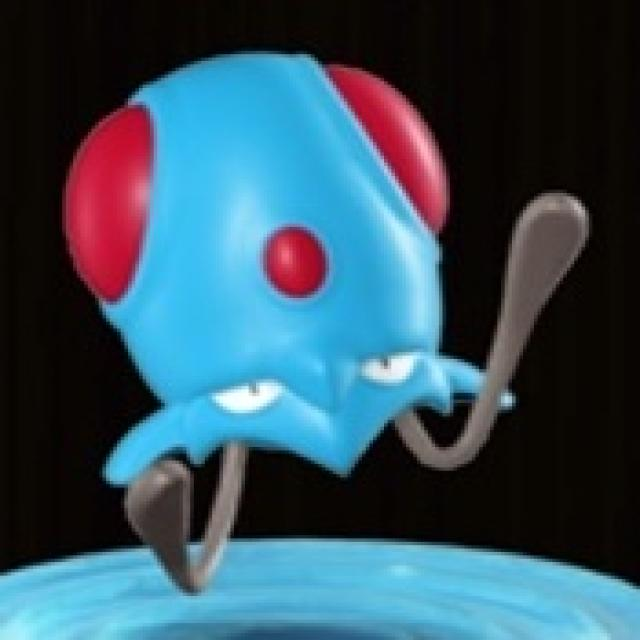Tentacool: (31, 49, 506, 508)
